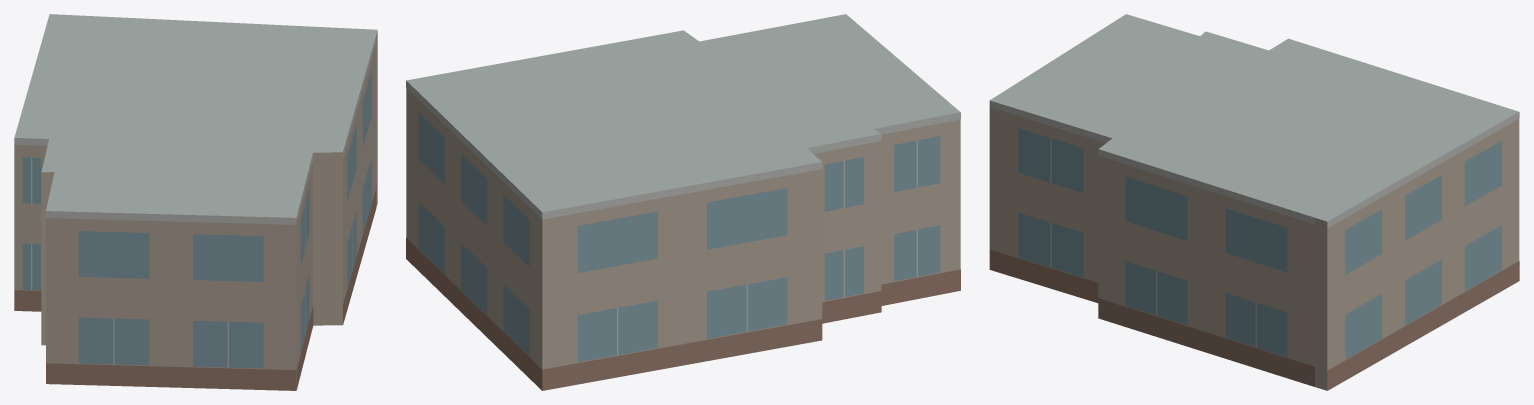
The model's file is survey-upis-32777963.glb.
3 renders of one model, left to right at view 1: azimuth 30°, elevation 25°; view 2: azimuth 150°, elevation 25°; view 3: azimuth 270°, elevation 25°, orthographic. The views are drawn at different scales.
Parts seen in each view (by area): view 1: survey-upis-32777963.tmp; view 2: survey-upis-32777963.tmp; view 3: survey-upis-32777963.tmp.
Part boxes in pixels (<box>): survey-upis-32777963.tmp: <box>14,14,377,390</box>; survey-upis-32777963.tmp: <box>406,14,960,390</box>; survey-upis-32777963.tmp: <box>989,14,1519,390</box>.
Size of the model in its own units: 16.05 by 6.1 by 17.31.
